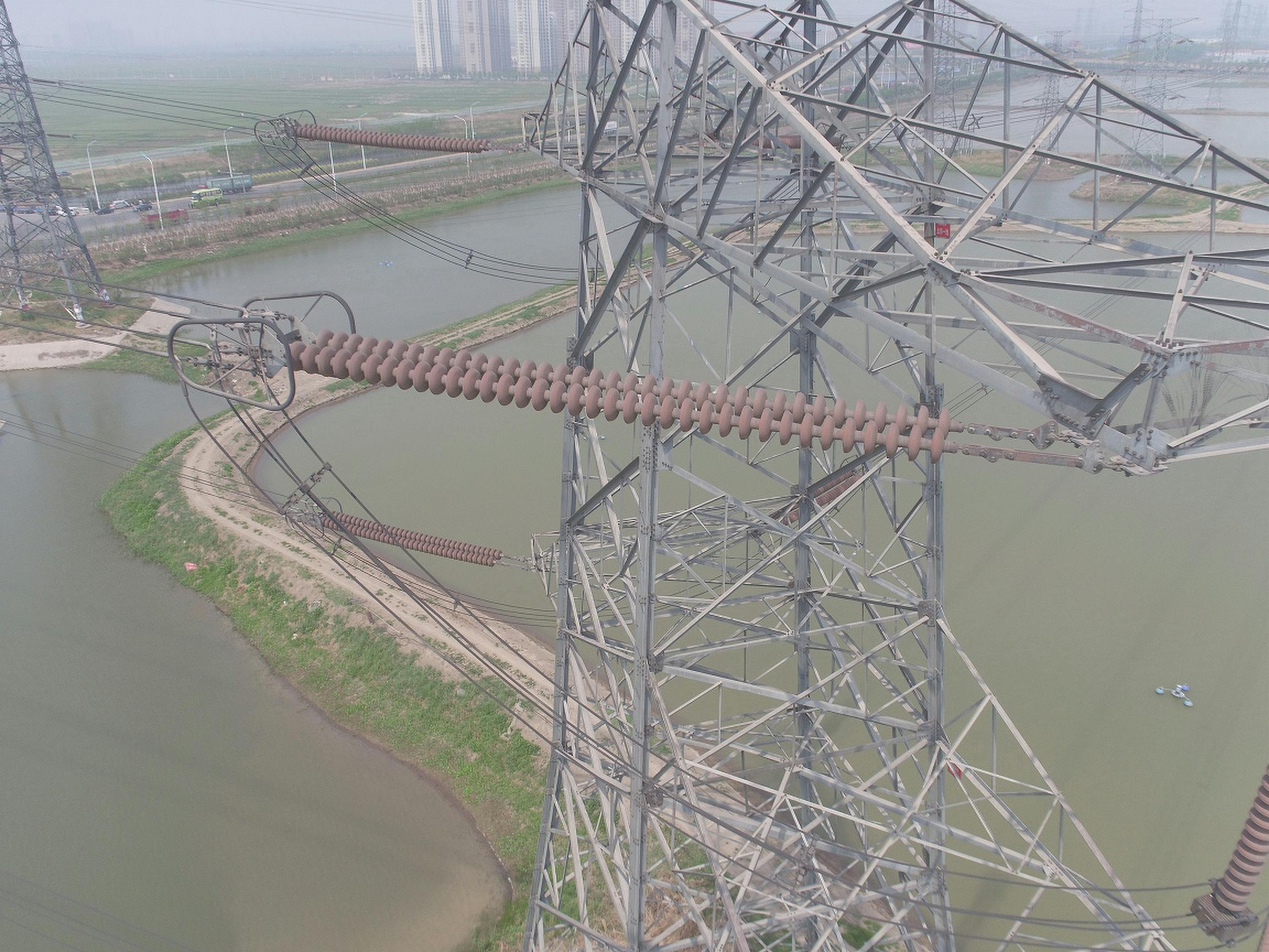insulator: (278, 325, 958, 469), (317, 508, 506, 569), (1206, 758, 1269, 918), (291, 121, 492, 156), (771, 466, 864, 529), (753, 131, 845, 151)
